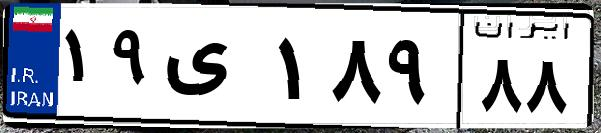1: (270, 28, 330, 110), (57, 26, 110, 100)
8: (330, 28, 385, 110), (475, 38, 525, 113), (525, 38, 570, 115)
9: (385, 28, 445, 110), (110, 28, 158, 98)
ی: (158, 20, 270, 120)
